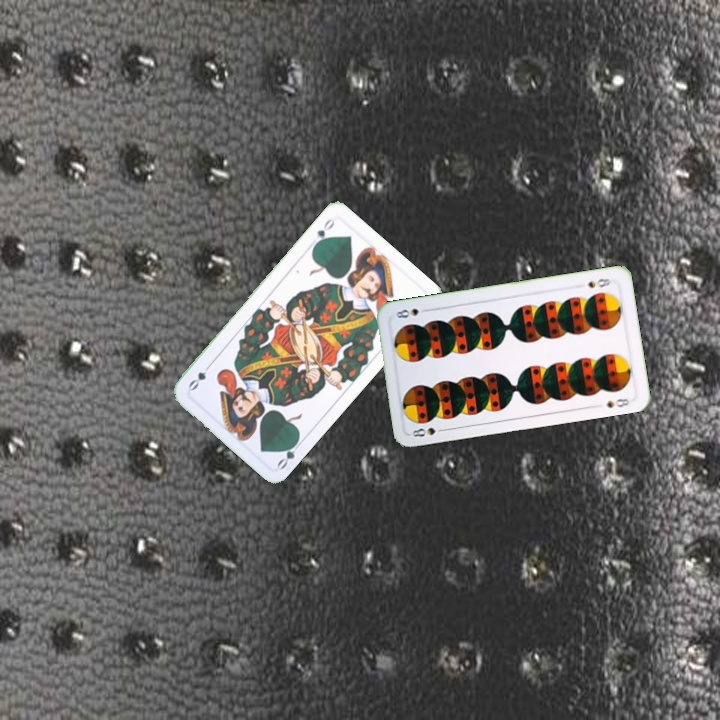GO: (273, 435, 305, 472), (309, 214, 337, 250)
S8: (408, 423, 449, 440), (583, 274, 612, 290)
